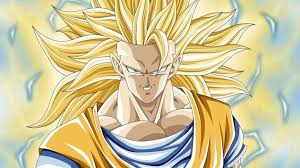Songoku: (110, 31, 182, 104)
